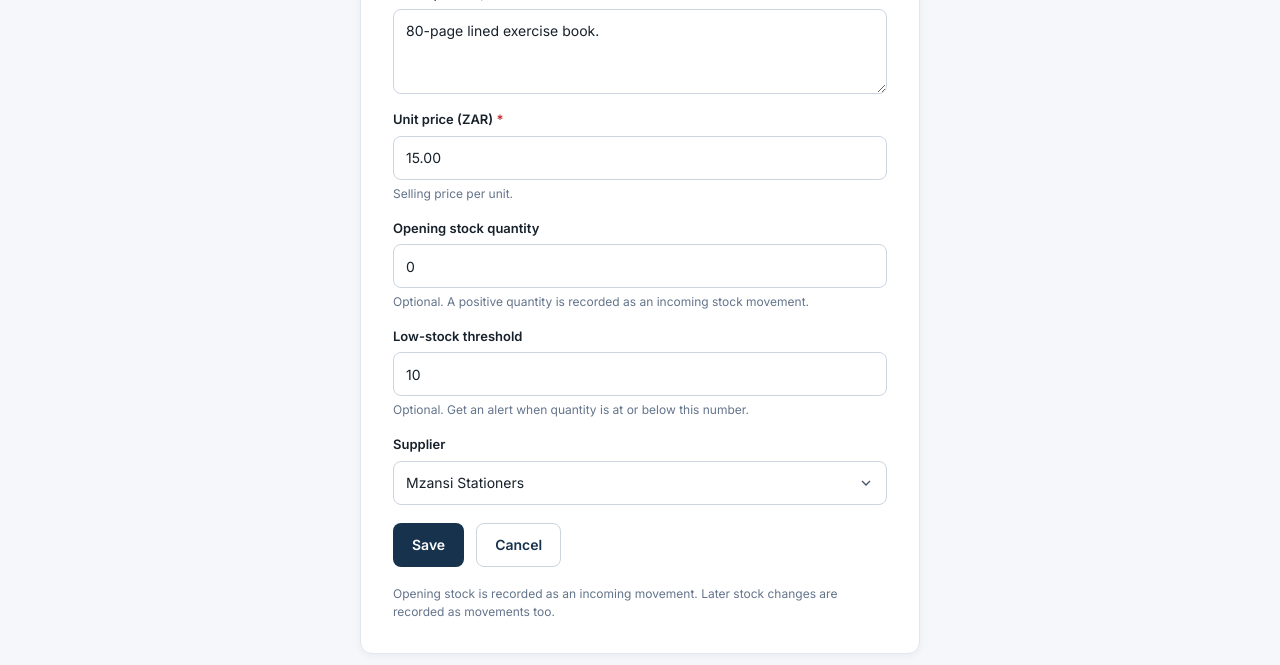
Test: ProductFormPage › shows sample S4 content in preview without querying or saving data
This screenshot has width=1280, height=665.
(page scrolled)
Expected: the dropdown labelled "Supplier" shows "Mzansi Stationers", 393,461 -> 887,505
Click the button "Save" at (429, 545), box 393,523 -> 464,567
(page scrolled)
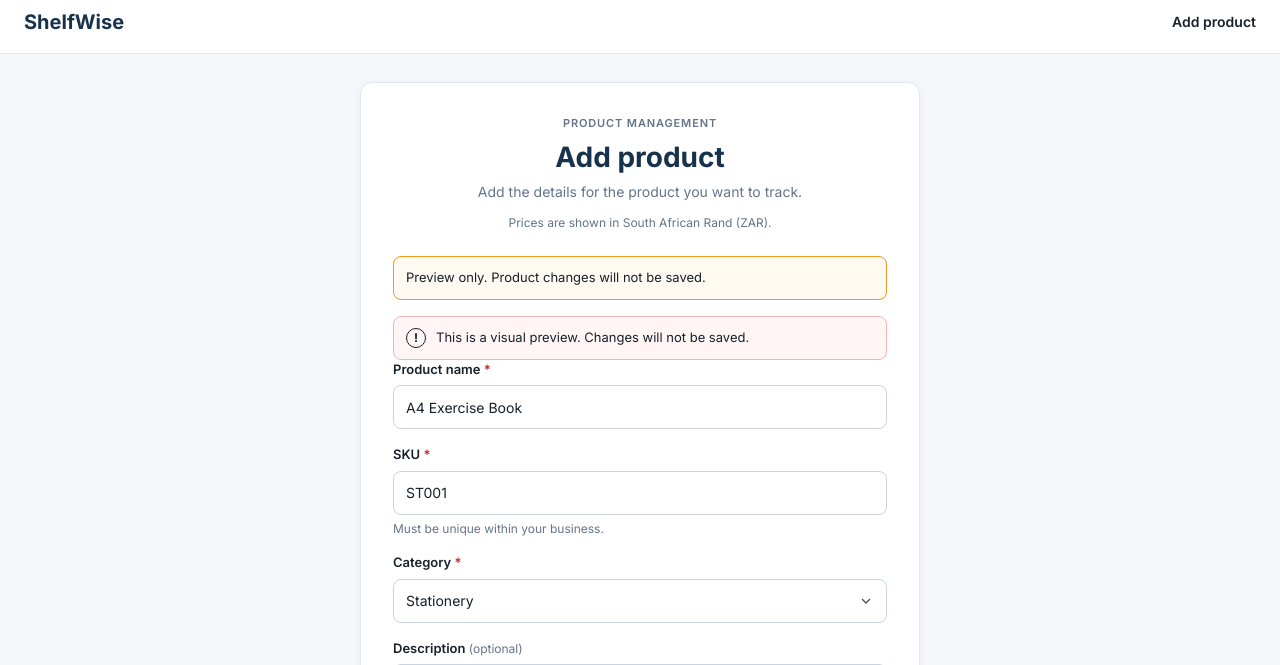
Expected: the message shows "Changes will not be saved", 436,329 -> 749,345
